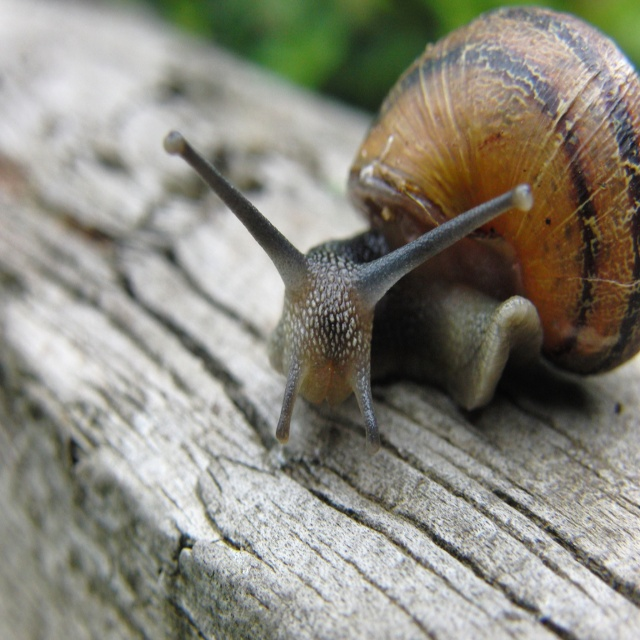Snail: (162, 6, 640, 459)
